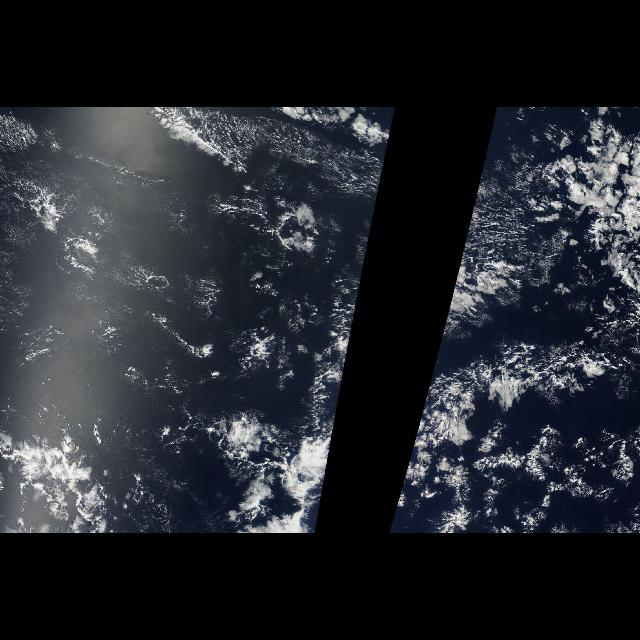Fish: (412, 336, 618, 442)
Flower: (528, 111, 640, 291)
Gravel: (16, 185, 292, 389)
Sugar: (4, 114, 132, 336), (461, 144, 554, 260), (330, 144, 388, 260)
